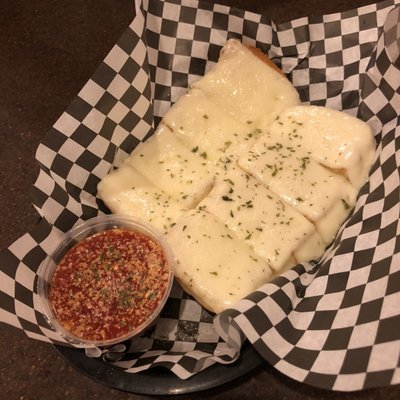sushi: (36, 215, 174, 348)
